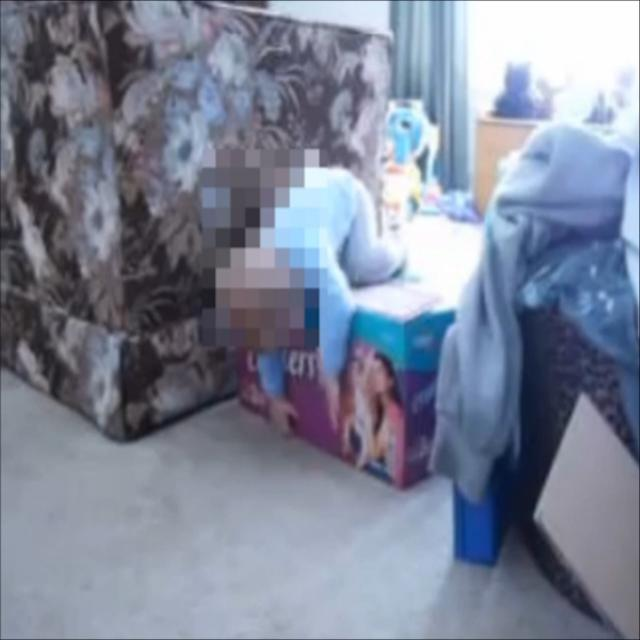child: (216, 163, 410, 438)
